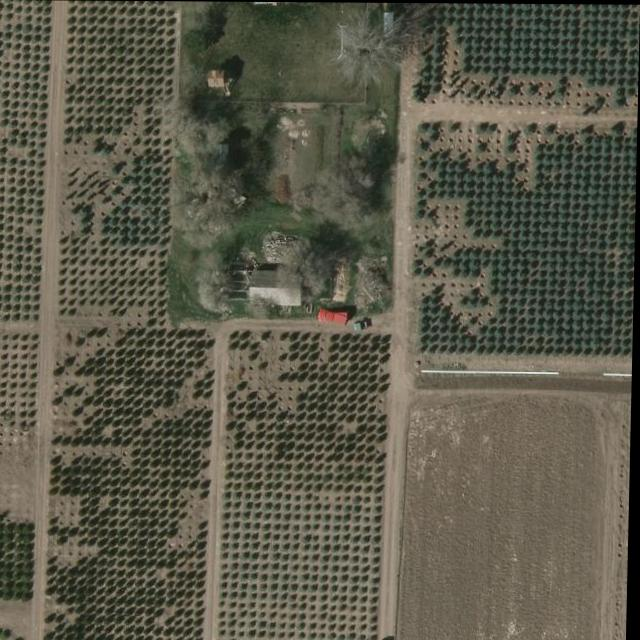vehicle: (320, 309, 350, 324)
